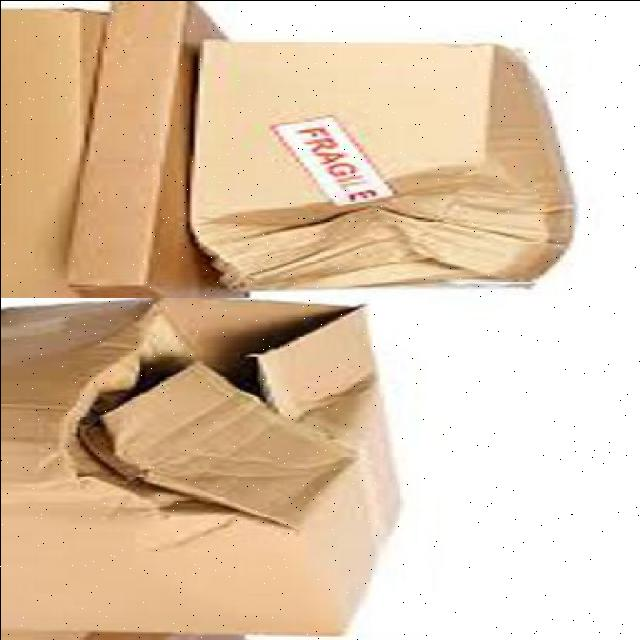defect: (0, 297, 426, 640), (183, 36, 589, 296)
